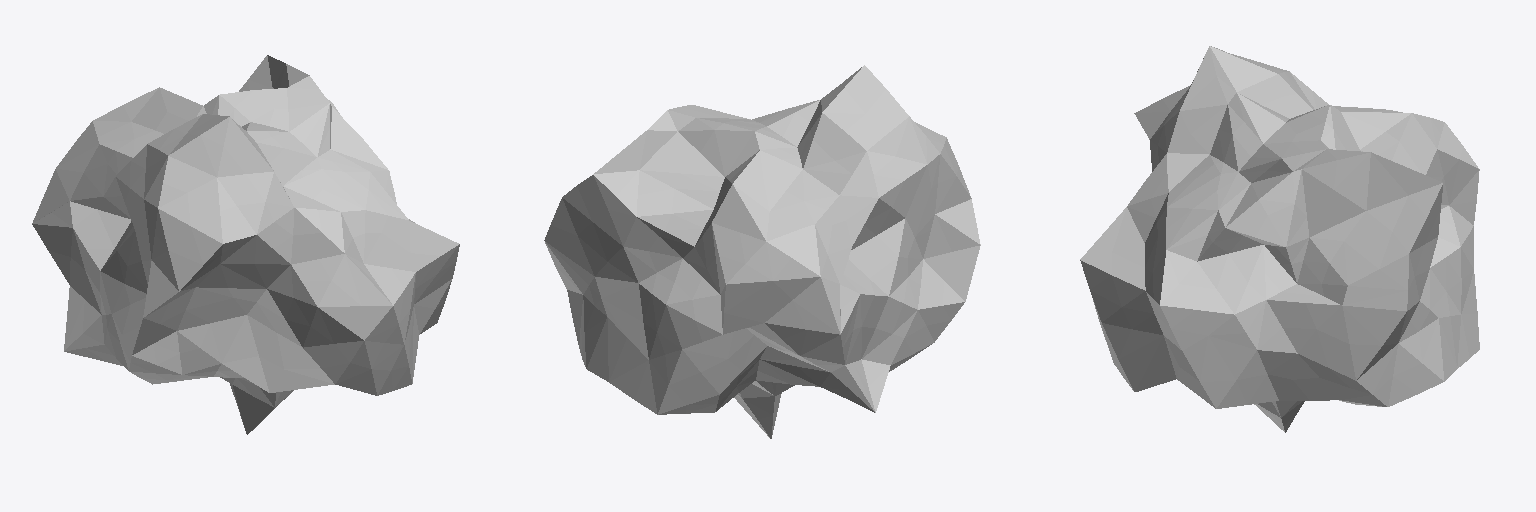
The model's file is art_bitum.obj.
3 renders of one model, left to right at view 1: azimuth 30°, elevation 25°; view 2: azimuth 150°, elevation 25°; view 3: azimuth 270°, elevation 25°, orthographic.
Visible parts, largest first — view 1: art_bitum_Icosphere.002; view 2: art_bitum_Icosphere.002; view 3: art_bitum_Icosphere.002.
Part boxes in pixels (bbox=[...]): art_bitum_Icosphere.002: bbox=[32, 55, 459, 434]; art_bitum_Icosphere.002: bbox=[544, 65, 980, 438]; art_bitum_Icosphere.002: bbox=[1080, 46, 1479, 432].
Size of the model in its own units: 5.31 by 5.62 by 5.65.